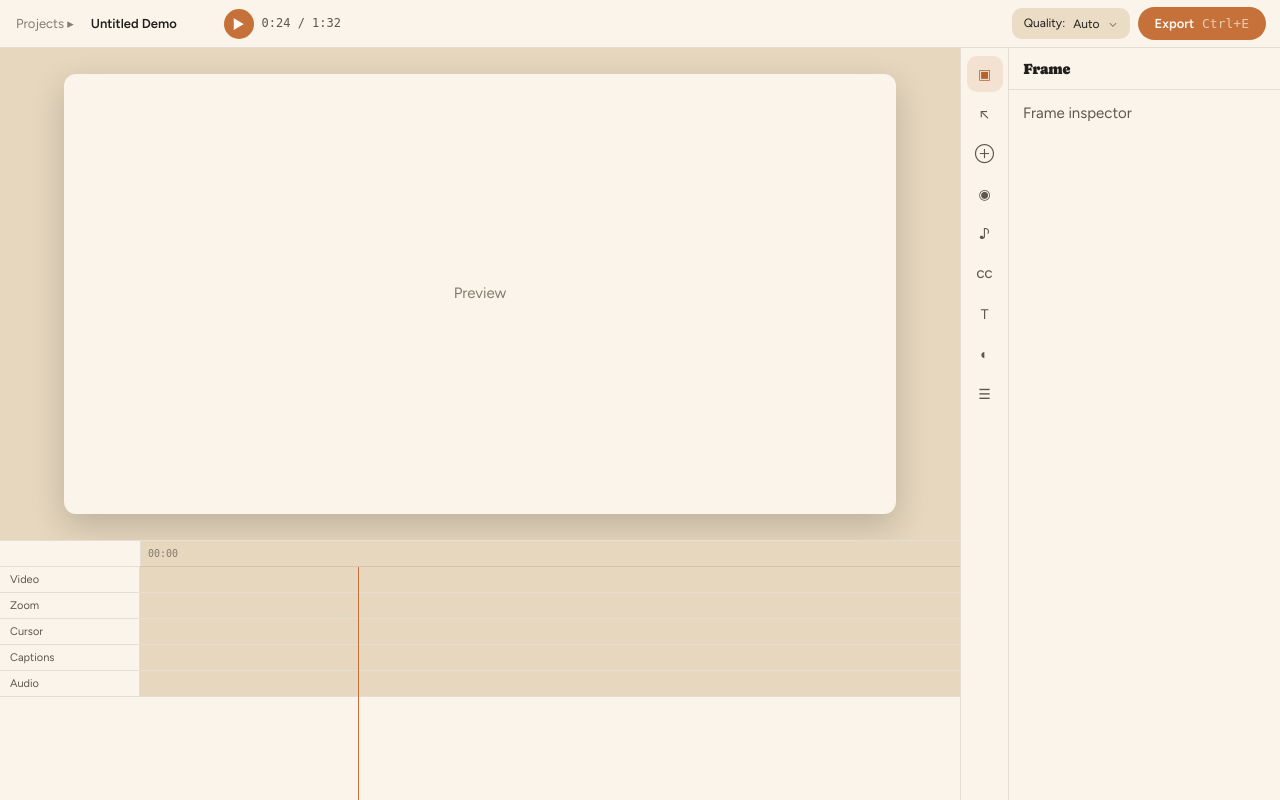
Test: EditorShell rename › a rename that resolves false reverts the field to the current name
Replace the text in the field named "Project name" with "Taken" at [147, 24], box [84, 11, 210, 36]
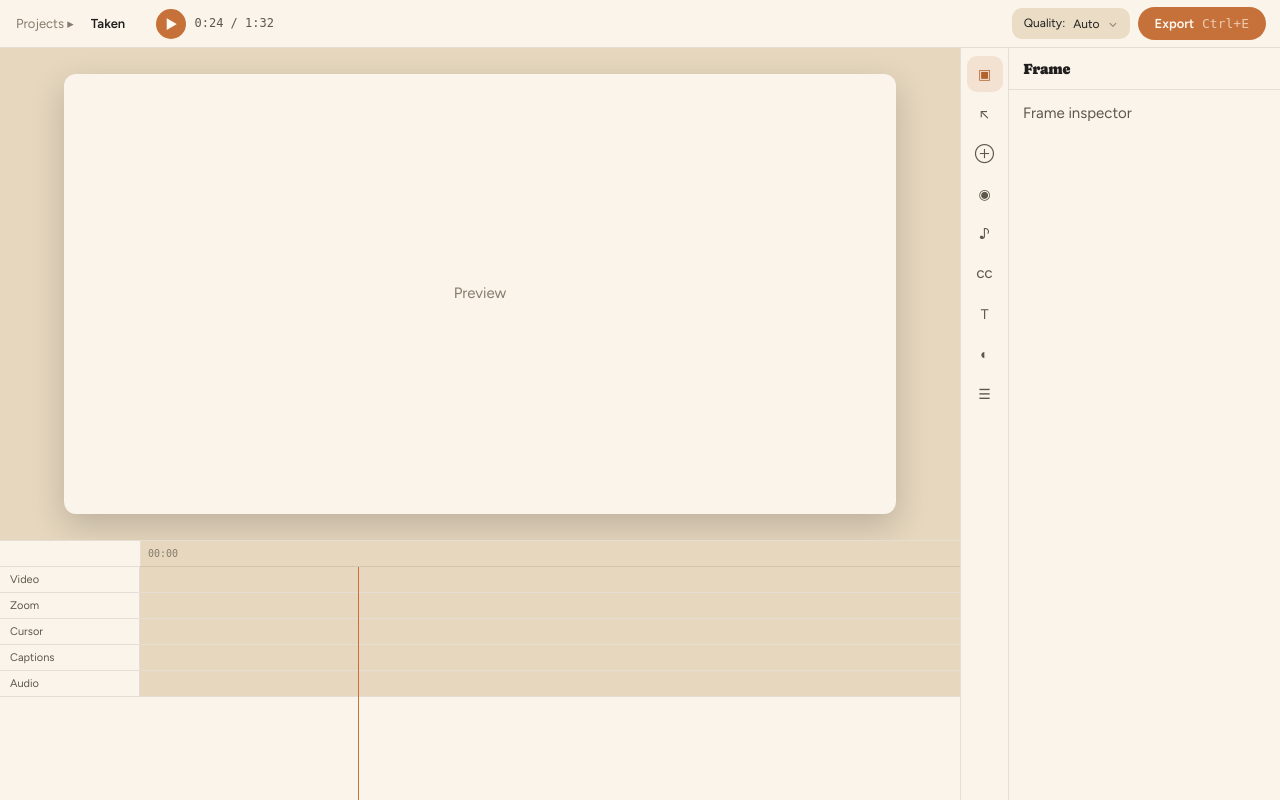
Leave the field named "Project name", box [84, 11, 142, 36]
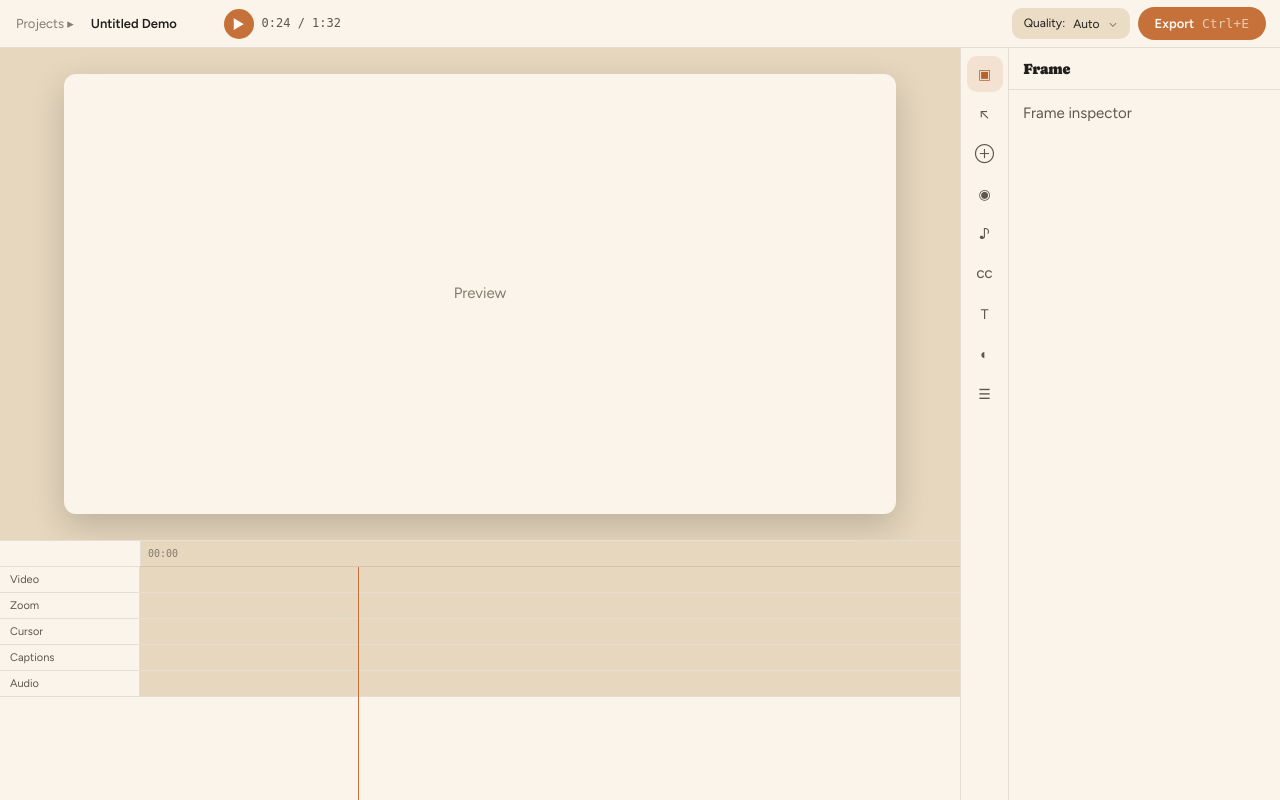
Now the field named "Project name" holds "Untitled Demo", box [84, 11, 210, 36]
